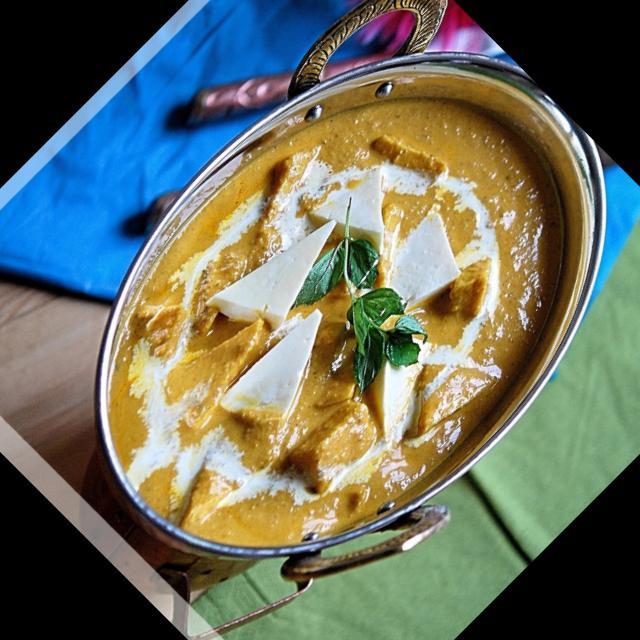ShahiPaneer: (23, 6, 640, 635)
